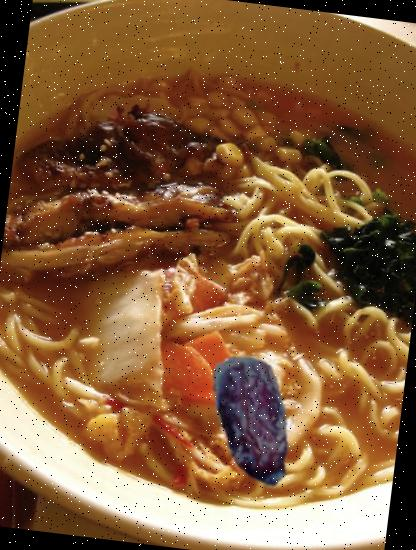Dates: (178, 345, 332, 498)
